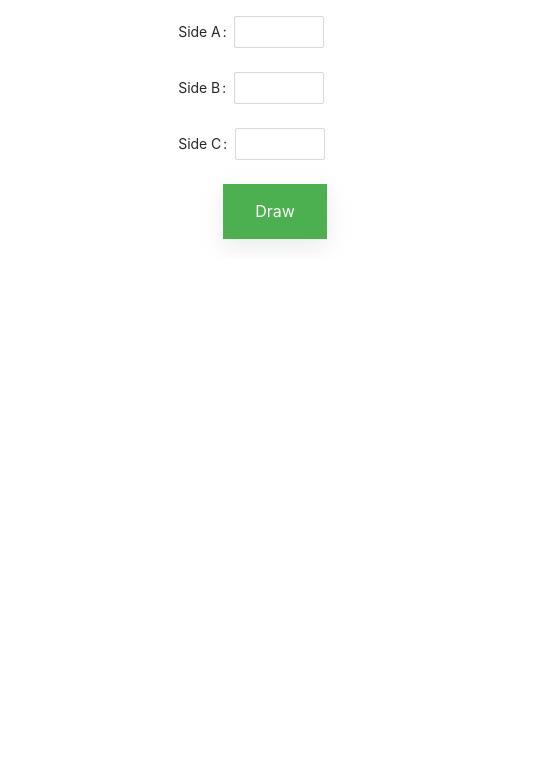
Test: <App /> › calculates the type of the triangle as Scalene
Step 1. Type "150" into the number field with test id "side" next to "Side A" → (280, 32), box x1=236 y1=17 x2=324 y2=47
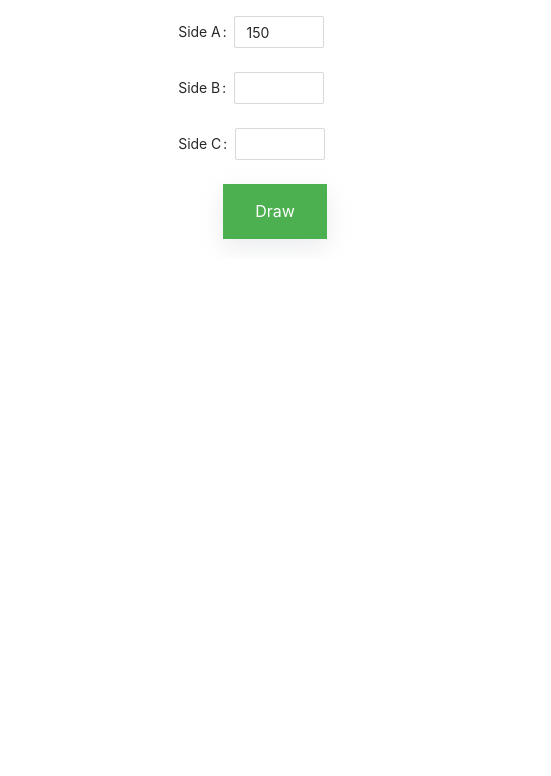
Step 2. Type "200" into the number field with test id "side" next to "Side B" → (279, 88), box x1=235 y1=73 x2=323 y2=103
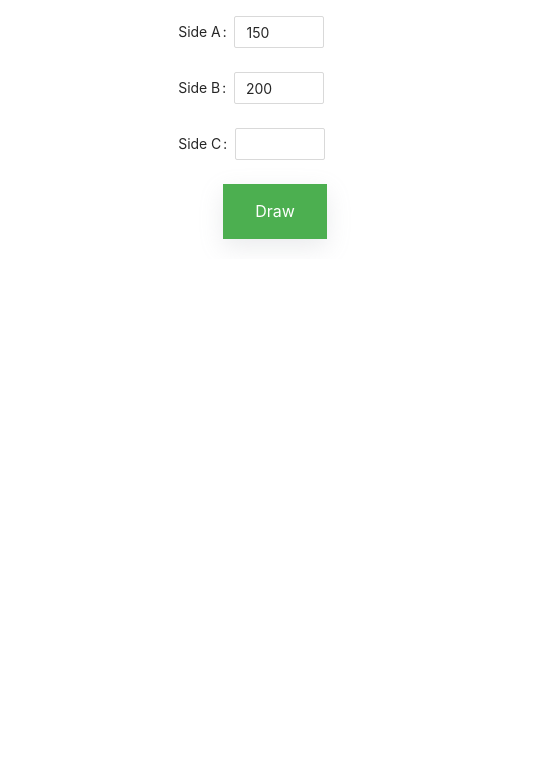
Step 3. Type "160" into the number field with test id "side" next to "Side C" → (280, 144), box x1=236 y1=129 x2=324 y2=159
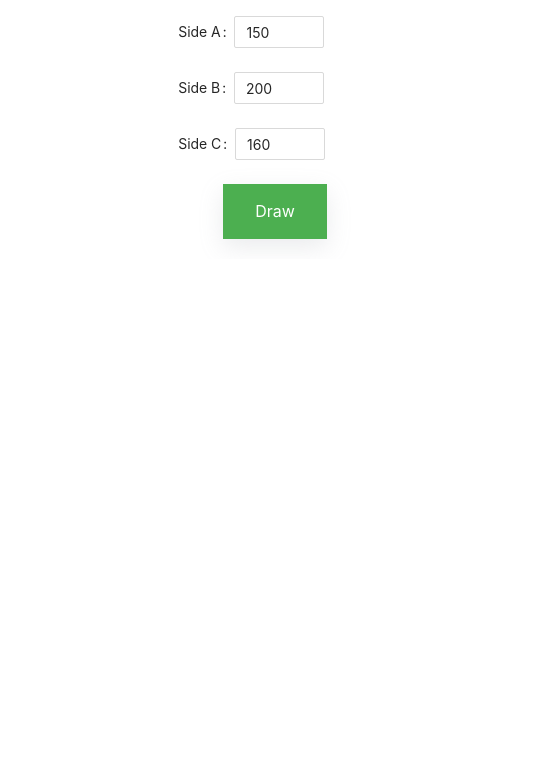
Step 4. Click the button showing "Draw" → click(275, 212), box x1=223 y1=184 x2=327 y2=239
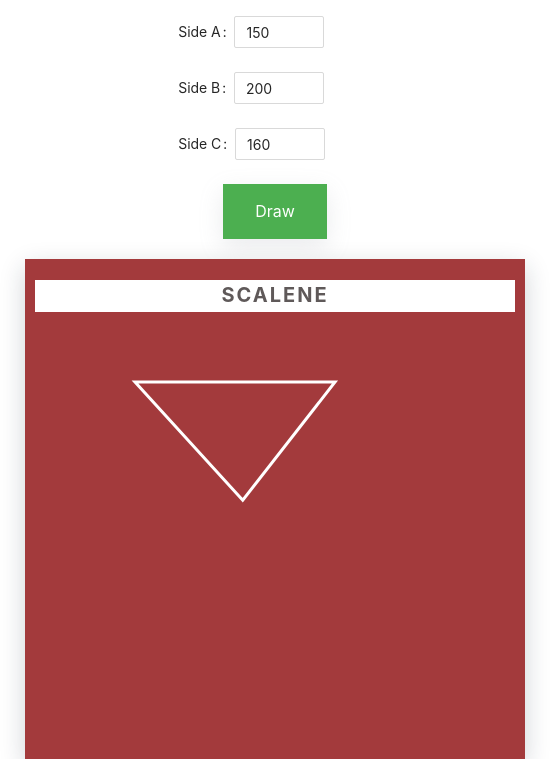
Check: the text with test id "triangle-type" reads "Scalene", box x1=221 y1=283 x2=328 y2=307
